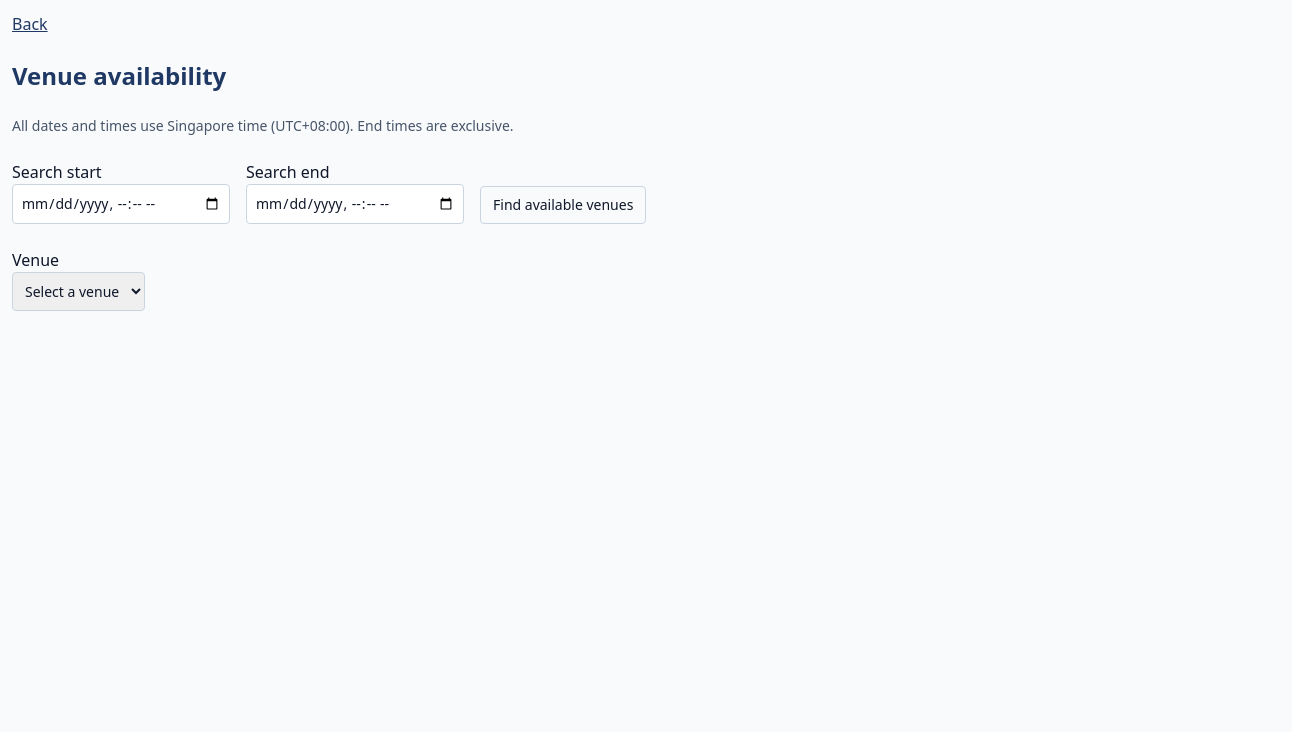
it: checks Singapore periods and displays block reasons; coordinators have no edit controls
The width and height of the screenshot is (1292, 732).
Select "Harbour Hall" in the dropdown labelled "Venue" at (78, 292), box [12,272,145,311]
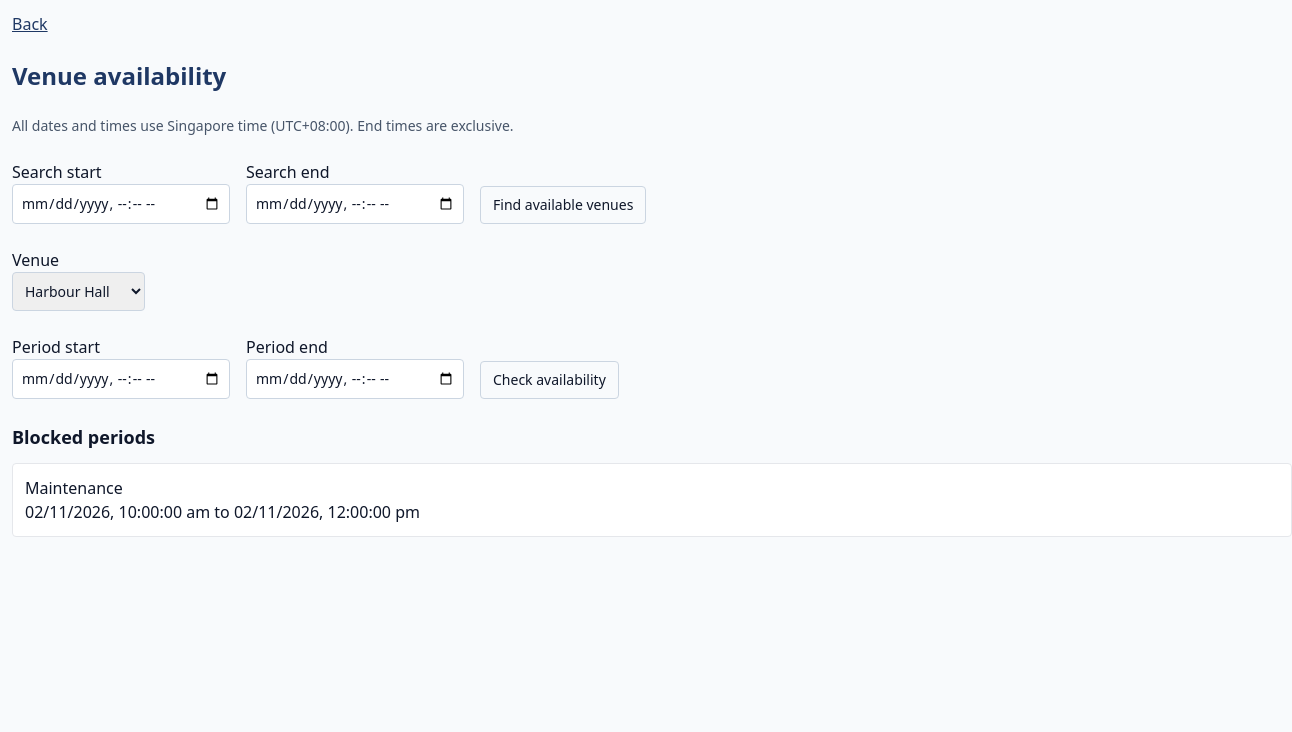
Expected: the text "Maintenance" is shown, [25,477,123,499]
Type "2026-11-02T10:00" into the field labelled "Period start".
click(121, 379); type("2026-11-02T10:00")  # box [12,359,230,399]
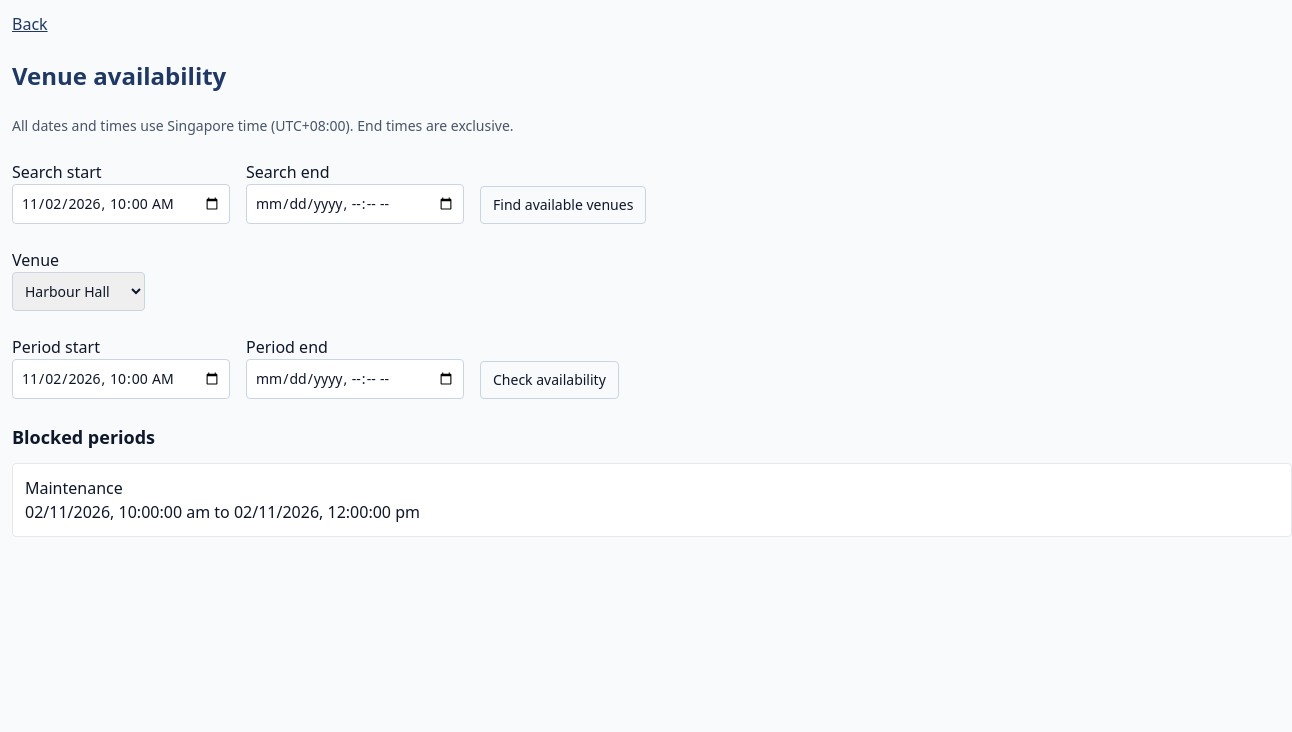
Type "2026-11-02T12:00" into the field labelled "Period end".
click(355, 379); type("2026-11-02T12:00")  # box [246,359,464,399]
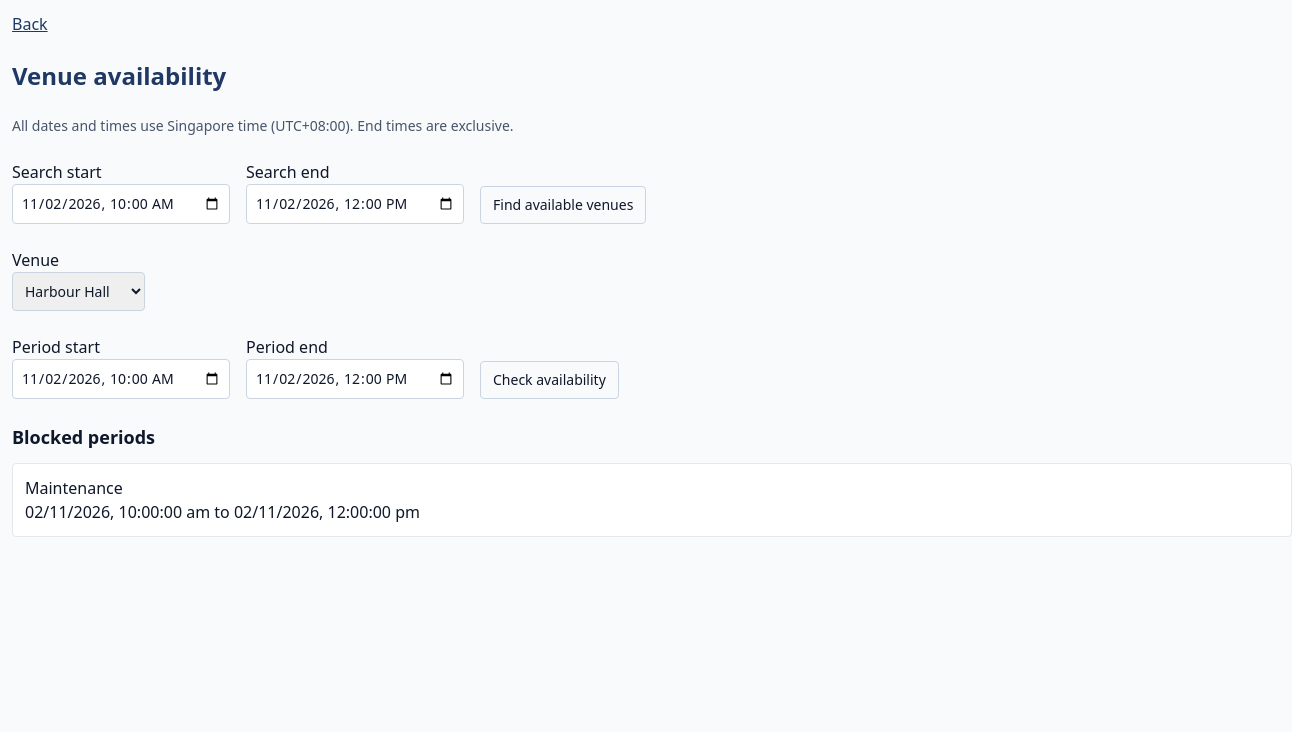
Click the button "Check availability".
click(549, 380)  # box [480,361,619,399]
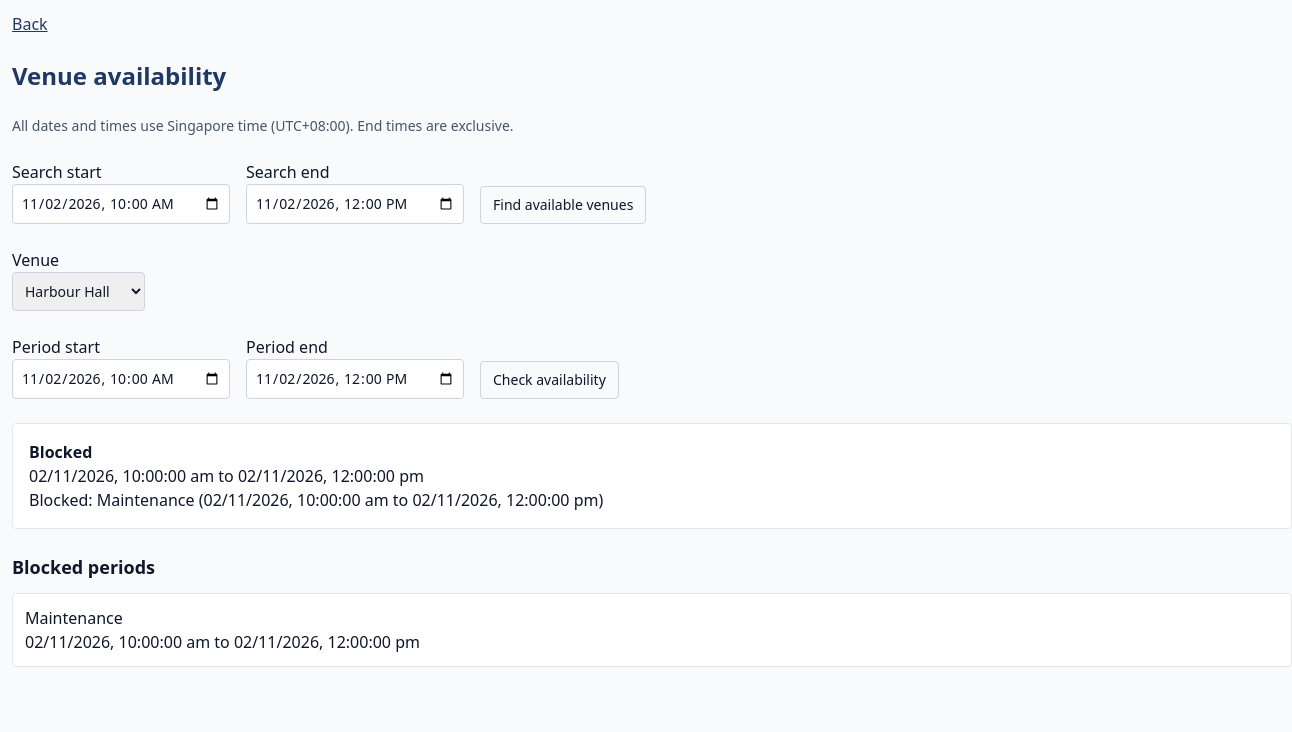
Expected: the element named "Availability result" shows "blocked", [29,441,92,463]
